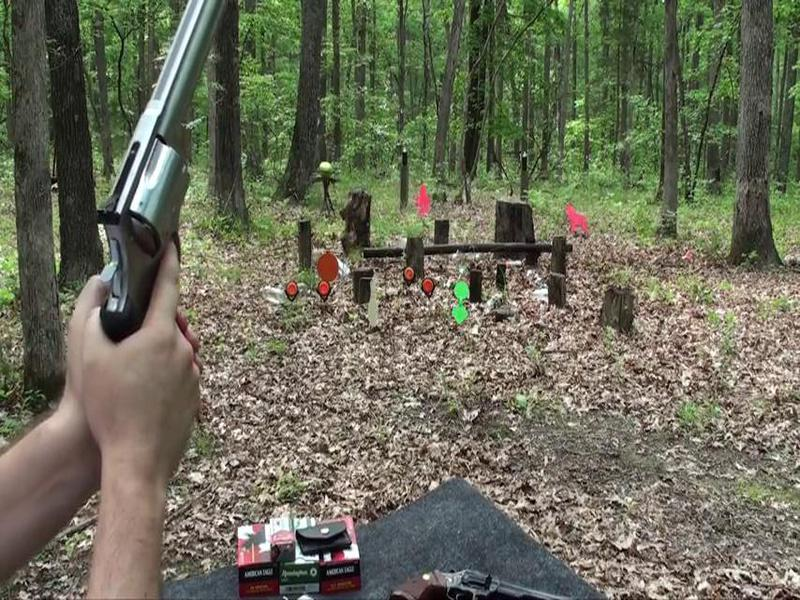Revolver: (46, 1, 262, 393)
